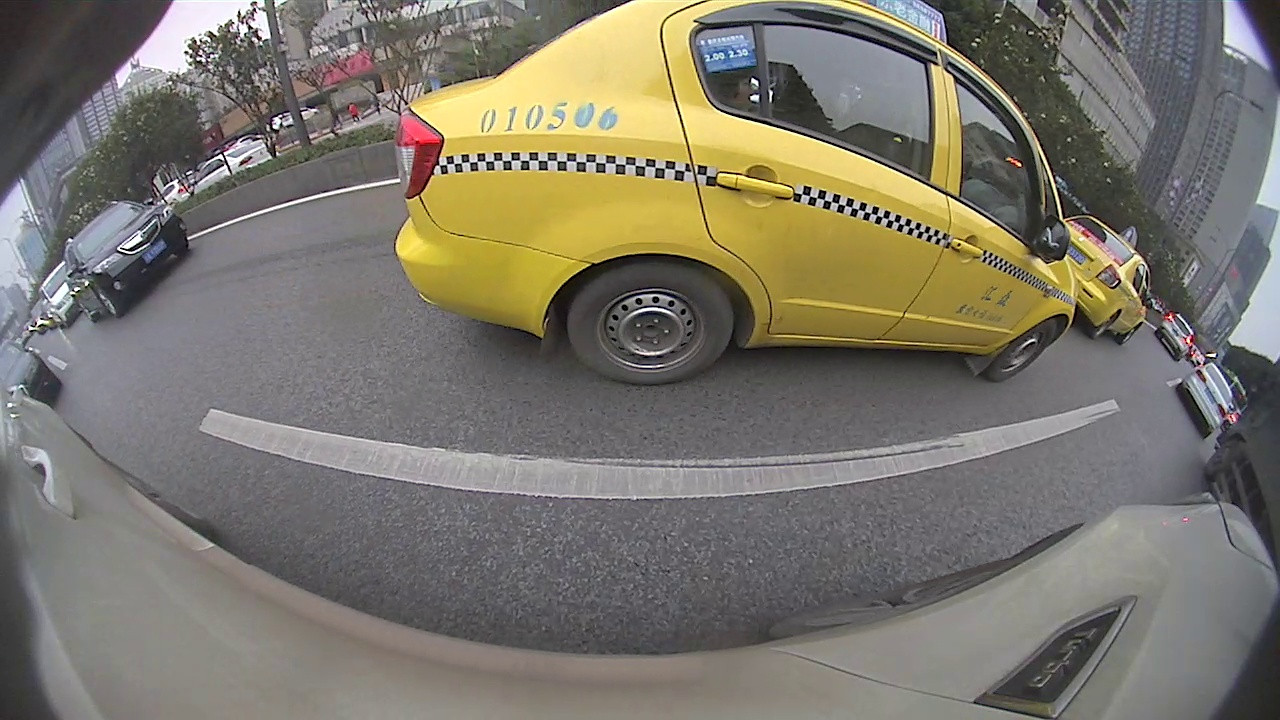car: (395, 1, 1079, 384), (59, 200, 190, 321), (1064, 216, 1151, 343), (1179, 367, 1235, 439), (1158, 310, 1199, 364)
front: (987, 319, 1058, 383), (93, 285, 121, 318)
rear: (568, 265, 735, 381)
